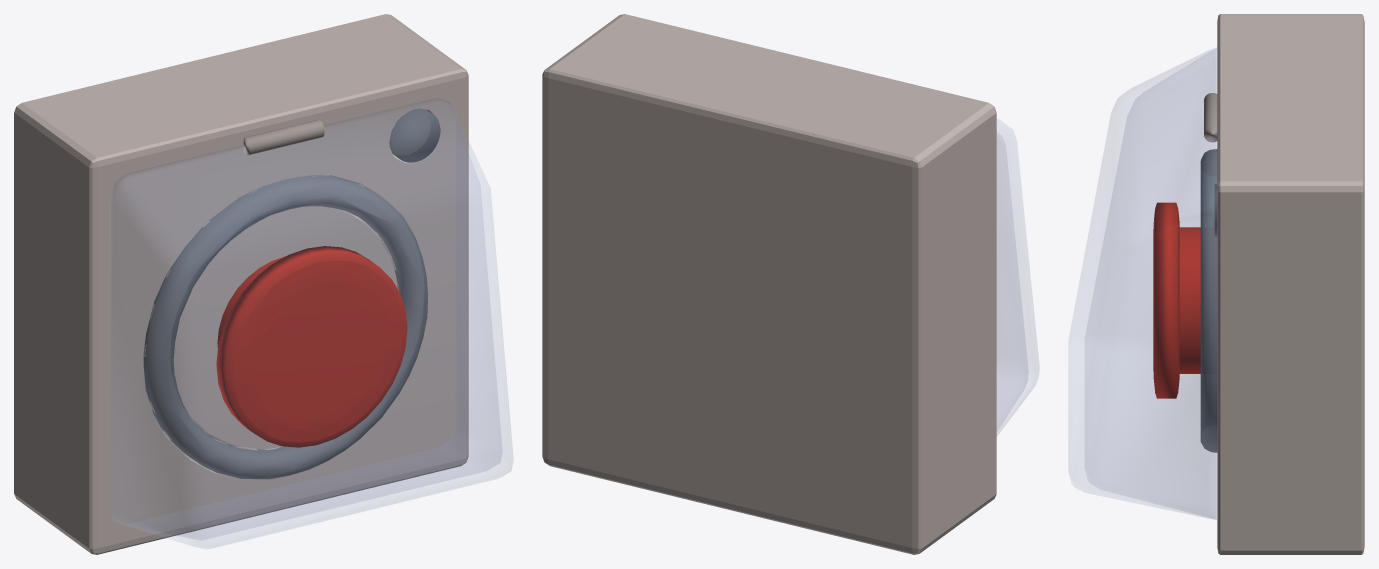
Rendered from big-button.glb.
3 renders of one model, left to right at view 1: azimuth 30°, elevation 25°; view 2: azimuth 150°, elevation 25°; view 3: azimuth 270°, elevation 25°, orthographic. The views are drawn at different scales.
Visible parts, largest first — view 1: ButtonModule, Cover, ButtonHead, LightRing, Light.005, Hinge, ButtonShaft; view 2: ButtonModule, Cover; view 3: ButtonModule, Cover, LightRing, ButtonHead, ButtonShaft, Hinge.
Boxes of the visible parts, x1,y1,x2,y2 form: ButtonModule: (14,14,468,554); Cover: (109,98,513,548); ButtonHead: (216,246,407,447); LightRing: (143,175,427,479); Light.005: (389,108,440,162); Hinge: (243,119,324,155); ButtonShaft: (217,256,285,347); ButtonModule: (542,14,996,554); Cover: (997,119,1038,435); ButtonModule: (1217,14,1364,554); Cover: (1069,48,1216,519); LightRing: (1200,149,1217,452); ButtonHead: (1153,202,1179,398); ButtonShaft: (1179,227,1200,373); Hinge: (1204,93,1217,142).
Size of the model in its own units: 0.1761 by 0.1761 by 0.1266.
